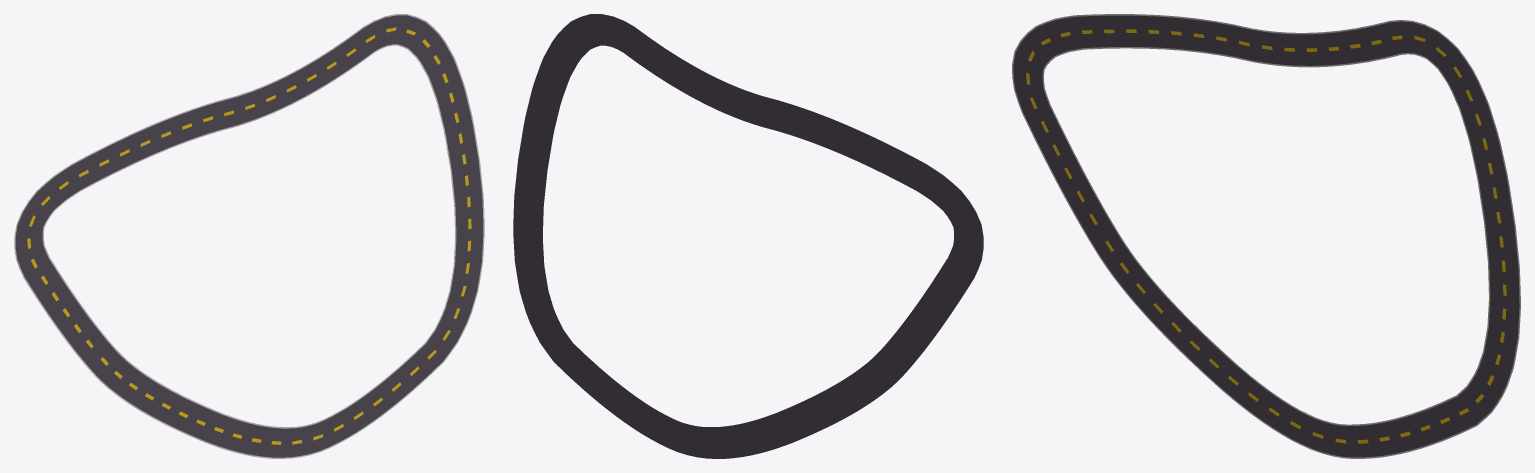
The model's file is track.obj.
3 renders of one model, left to right at view 1: azimuth 30°, elevation 25°; view 2: azimuth 150°, elevation 25°; view 3: azimuth 330°, elevation 25°, orthographic. The views are drawn at different scales.
Bounding box in the file's own units: 14.51 × 12.39 × 0.002.
